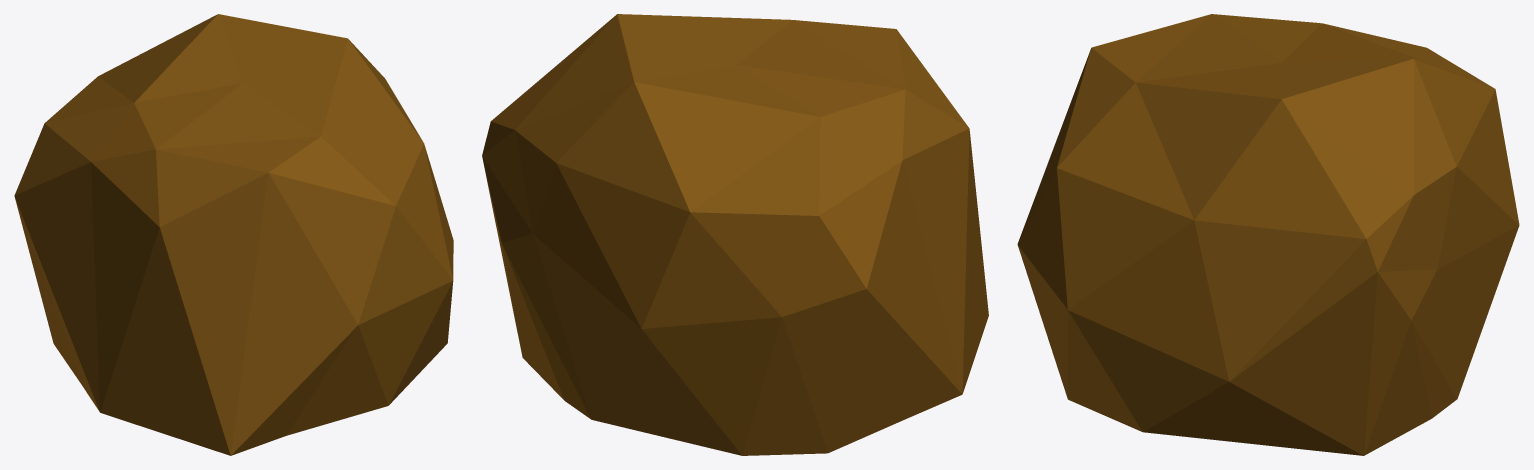
The model's file is Flat Rock 2.fbx.
3 renders of one model, left to right at view 1: azimuth 30°, elevation 25°; view 2: azimuth 150°, elevation 25°; view 3: azimuth 270°, elevation 25°, orthographic. The views are drawn at different scales.
Parts seen in each view (by area): view 1: Flat Rock 2; view 2: Flat Rock 2; view 3: Flat Rock 2.
Boxes of the visible parts, bbox=[...] form: Flat Rock 2: bbox=[14, 14, 453, 455]; Flat Rock 2: bbox=[482, 14, 988, 455]; Flat Rock 2: bbox=[1017, 14, 1519, 455].
Size of the model in its own units: 180 by 138 by 190.
